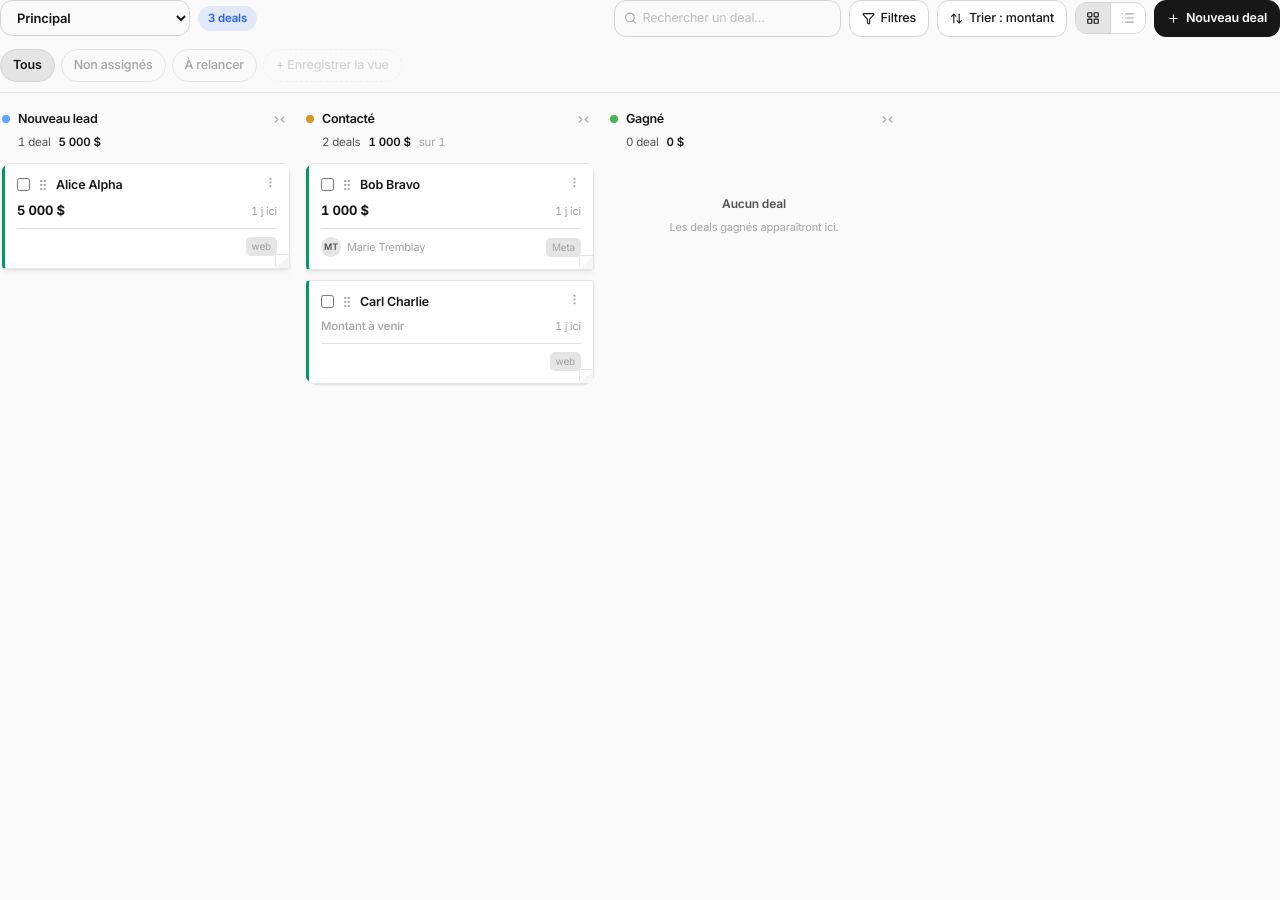
Test case: création de deal — ce qui nourrit les prévisions › demande montant, date visée, responsable et source
The width and height of the screenshot is (1280, 900).
Click the button "Nouveau deal" at (1217, 18), box [1154,0,1279,37]
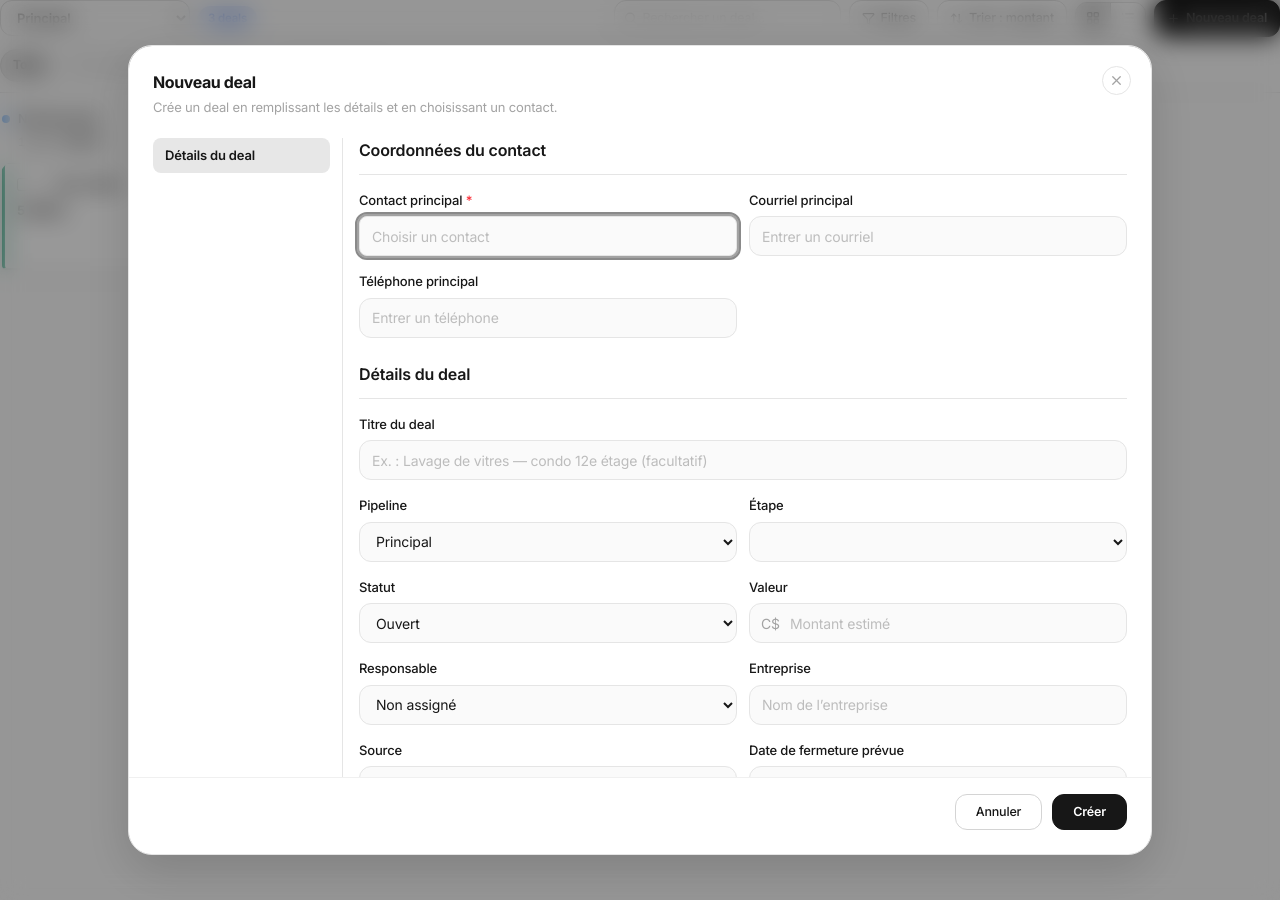
Expected: the field labelled "Valeur" is shown, [749,603,1127,643]
Expected: the date field labelled "Date de fermeture prévue" is shown, [749,766,1127,806]
Expected: the dropdown labelled "Responsable" is shown, [359,684,737,724]
